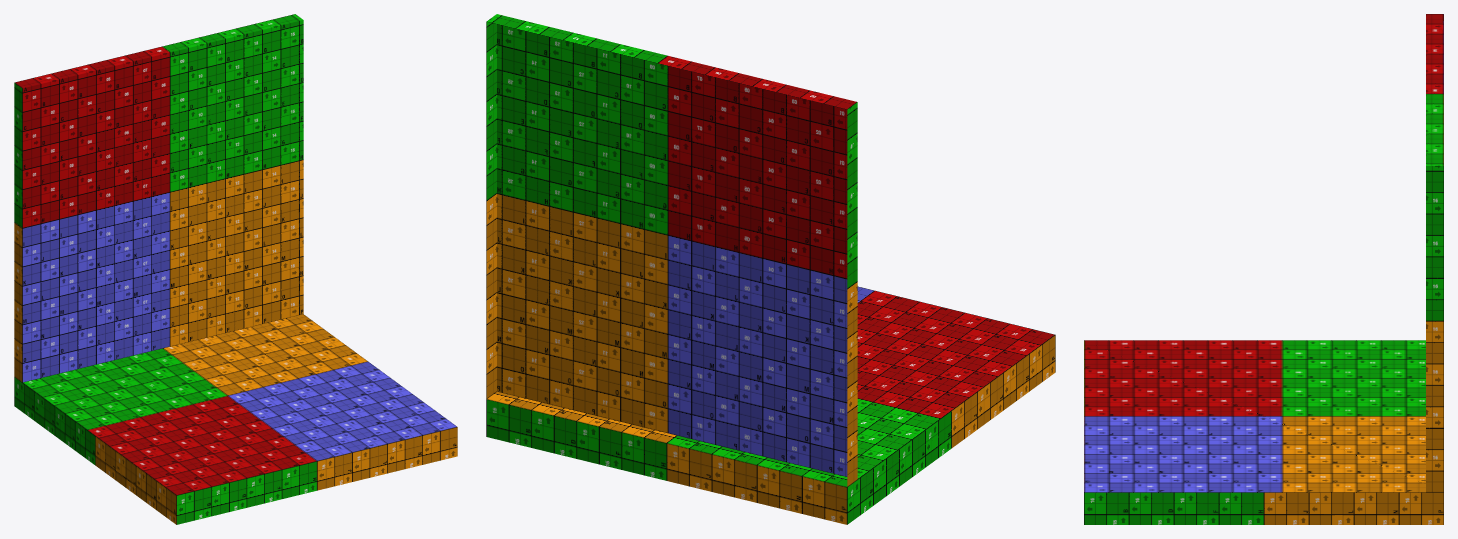
The model's file is enviro.glb.
The picture shows the model from 3 angles, left to right: view 1: azimuth 30°, elevation 25°; view 2: azimuth 150°, elevation 25°; view 3: azimuth 270°, elevation 25°; orthographic projection. The views are drawn at different scales.
Visible parts, largest first — view 1: wall, floor, doorway; view 2: wall, floor, doorway; view 3: floor, wall.
Boxes of the visible parts, box(x1,y1,x2,y2) form: wall: box(14, 14, 303, 382); floor: box(14, 314, 457, 524); doorway: box(22, 20, 303, 382); wall: box(486, 14, 857, 486); floor: box(486, 286, 1055, 524); doorway: box(497, 25, 847, 476); floor: box(1084, 340, 1443, 524); wall: box(1426, 14, 1443, 492).
Bounding box in the file's own units: 2 × 2.2 × 2.
Materials: 1 (1 with a texture image).
